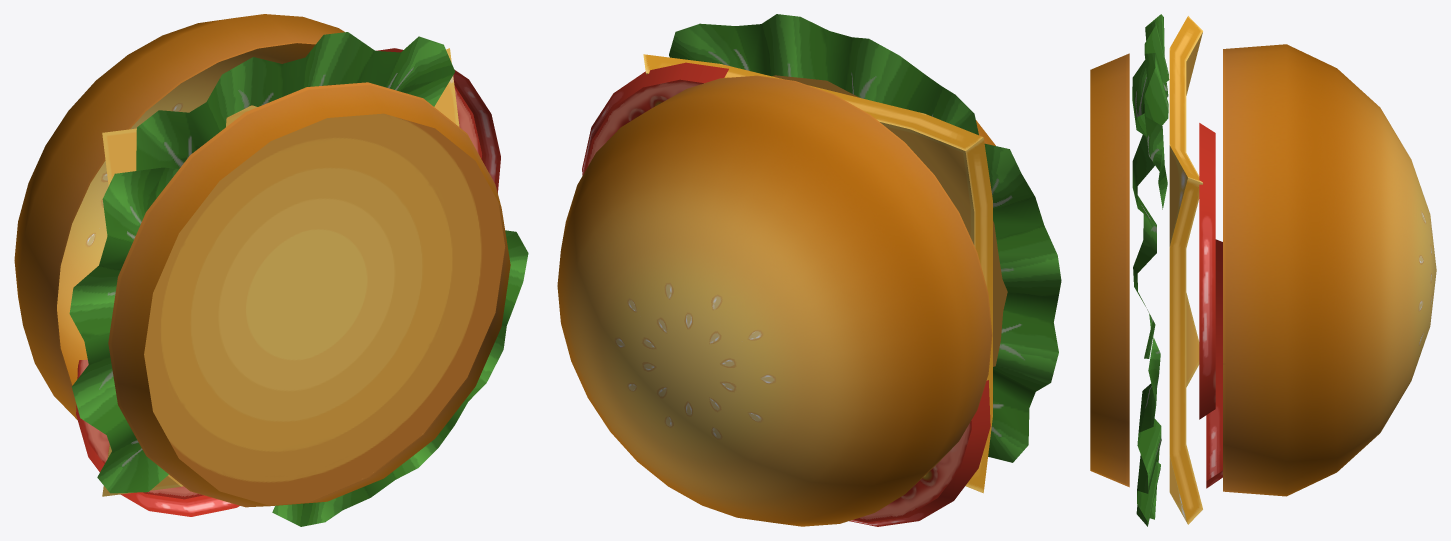
The model's file is Hamburge_Wheel.fbx.
3 views of the same model, side by side, from view 1: azimuth 30°, elevation 25°; view 2: azimuth 150°, elevation 25°; view 3: azimuth 270°, elevation 25° (orthographic). The views are drawn at different scales.
Visible parts, largest first — view 1: Hamburge_Wheel2; view 2: Hamburge_Wheel2; view 3: Hamburge_Wheel2.
Boxes of the visible parts, box(x1,y1,x2,y2) form: Hamburge_Wheel2: box(14, 14, 528, 526); Hamburge_Wheel2: box(557, 14, 1061, 526); Hamburge_Wheel2: box(1090, 14, 1436, 526).
Size of the model in its own units: 589 by 589 by 398.
